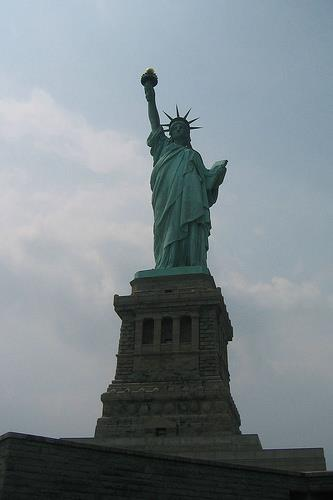Statue_of_Liberty: (131, 55, 231, 276)
